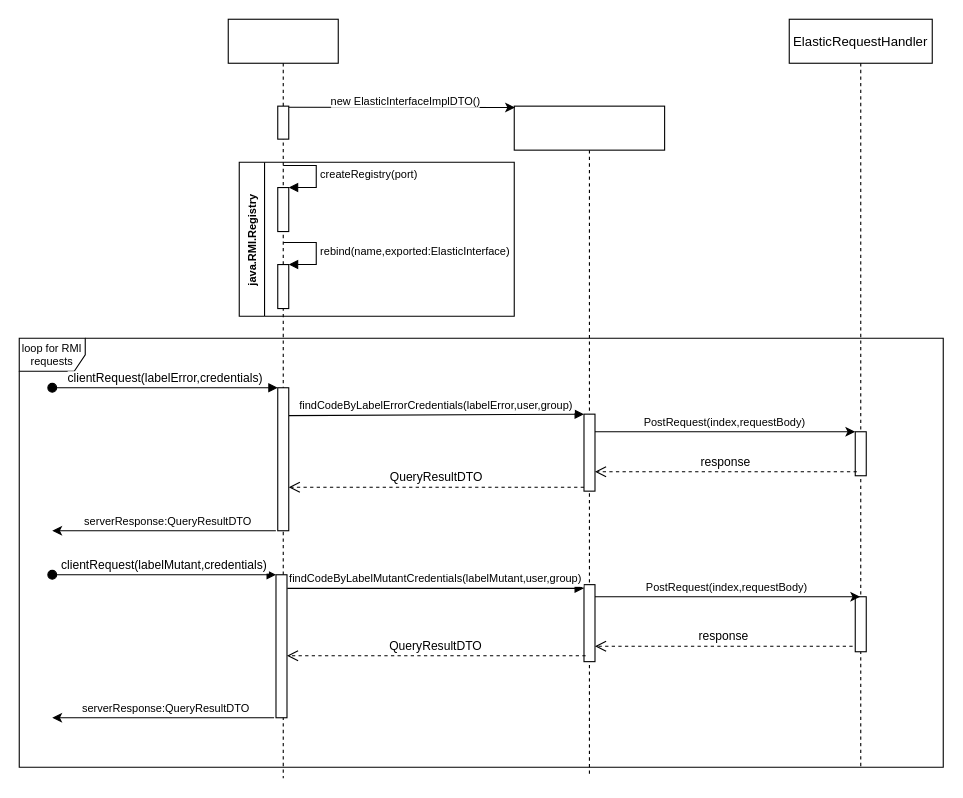
Image size: 963x798. Some labels were removed from this diagram. The centre of each missing label's shape, as x and y in pixels:
"ElasticInterface" goes at pixel 589 441.
"ElasticServer" goes at pixel 282 398.
